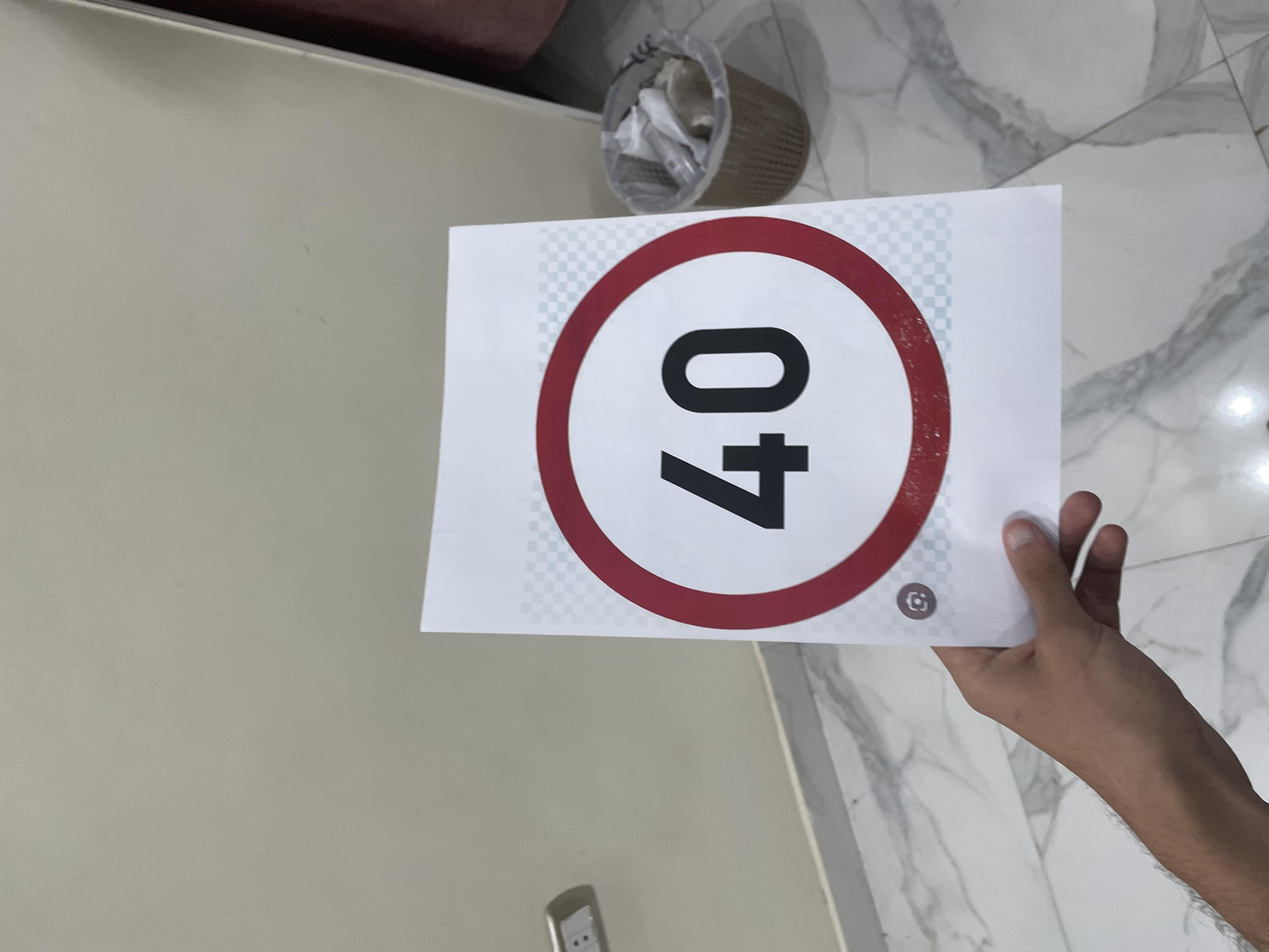40-Speed: (433, 385, 989, 717)
